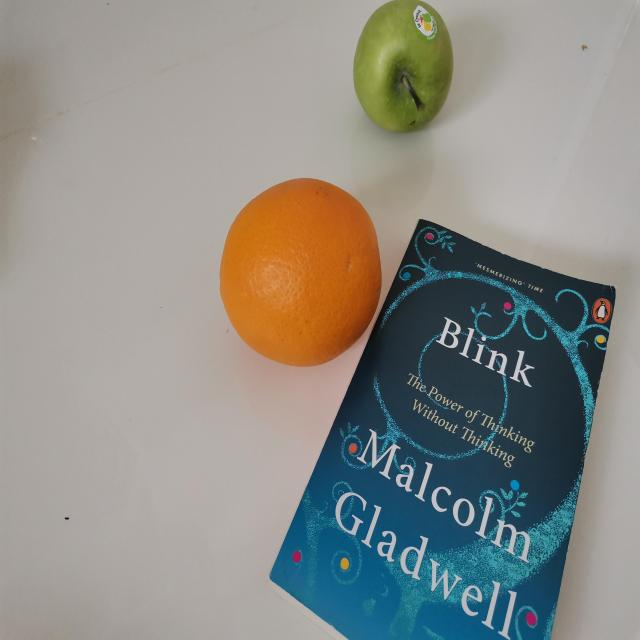Apple: (351, 0, 457, 138)
Book: (263, 218, 622, 636)
Orange: (214, 176, 390, 369)
